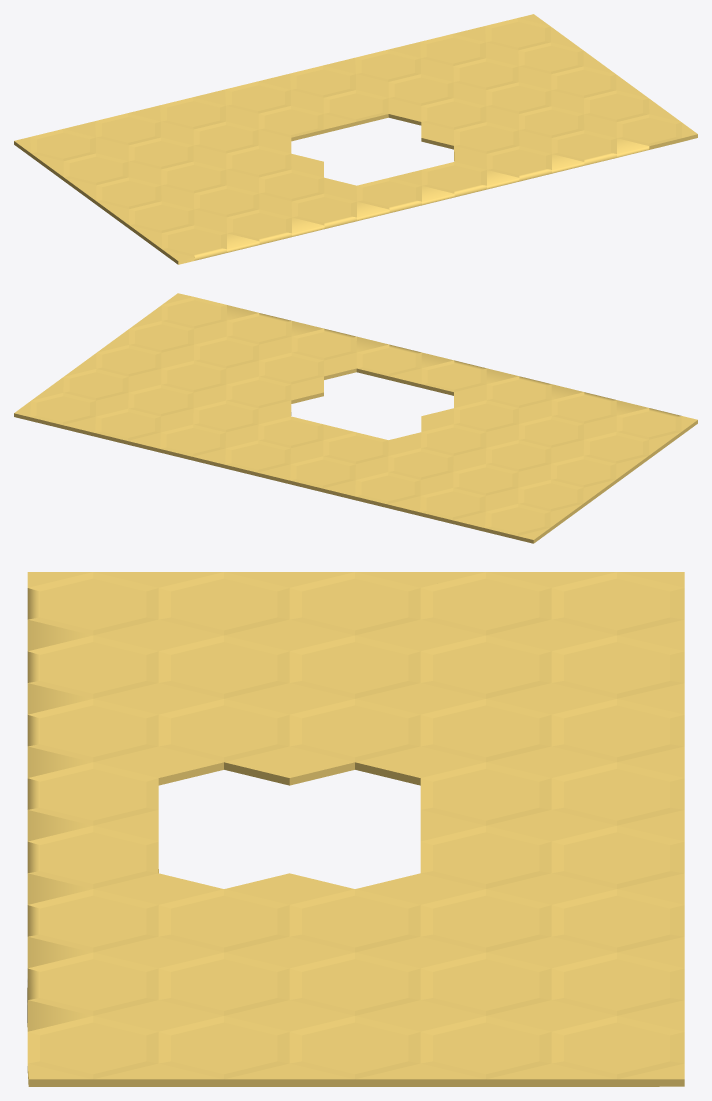
The model's file is exit_wall.fbx.
The picture shows the model from 3 angles, top to bottom: view 1: azimuth 30°, elevation 25°; view 2: azimuth 150°, elevation 25°; view 3: azimuth 270°, elevation 25°; orthographic projection. The views are drawn at different scales.
Parts seen in each view (by area): view 1: wall_final; view 2: wall_final; view 3: wall_final.
Boxes of the visible parts, left/top/right/bottom form: wall_final: left=14, top=14, right=697, bottom=264; wall_final: left=14, top=293, right=697, bottom=543; wall_final: left=27, top=572, right=684, bottom=1086.
Bounding box in the file's own units: 16 × 0.1101 × 8.77.
